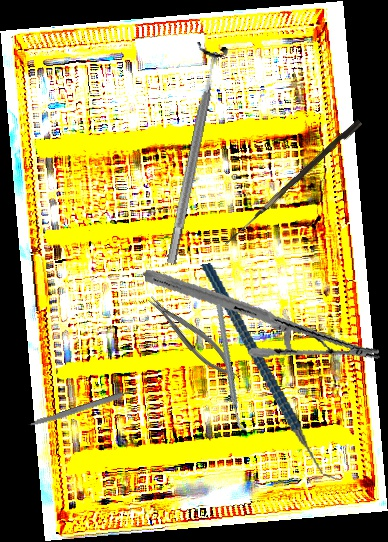Chopper: (200, 246, 344, 498), (187, 303, 276, 432)
Fixation Ring: (154, 41, 230, 267)
Hook Surgical: (224, 116, 363, 252)
Needle Holder: (143, 233, 381, 397), (143, 287, 243, 387)
Scalpel Handle: (27, 387, 138, 430)
